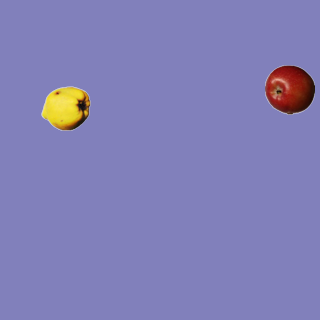Apple Braeburn: (264, 64, 314, 114)
Quince: (40, 83, 90, 133)
